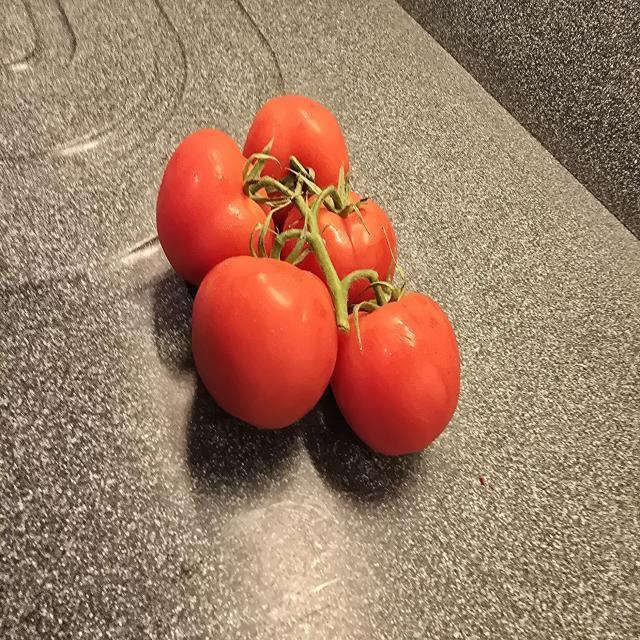Tomato: (192, 229, 338, 428), (331, 282, 460, 455), (156, 129, 272, 285)
